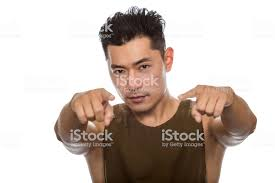asian_male: (88, 11, 178, 115)
